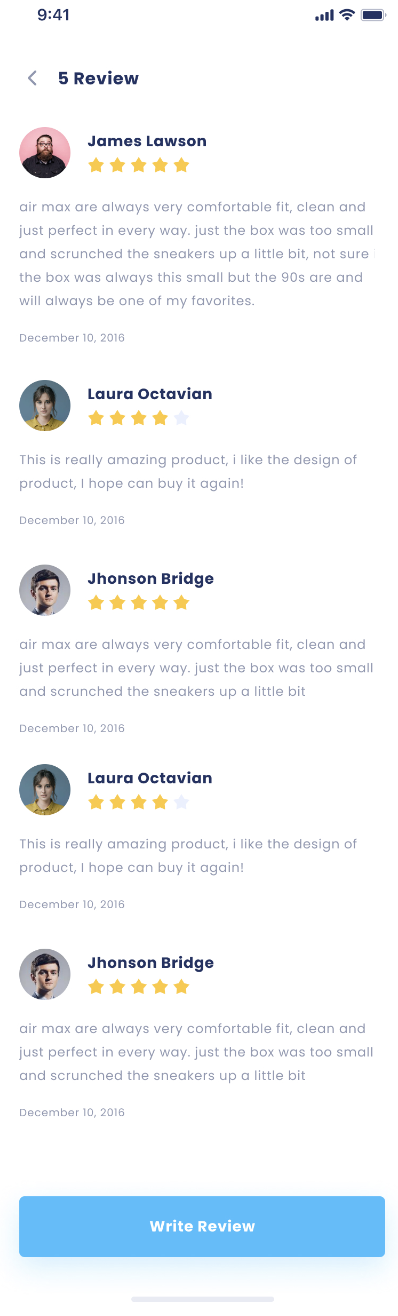Button: (16, 1192, 388, 1260)
